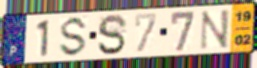1: (35, 18, 53, 58)
7: (169, 10, 197, 53), (133, 12, 158, 55)
N: (198, 8, 231, 51)
S: (96, 13, 129, 57), (57, 15, 90, 58)
